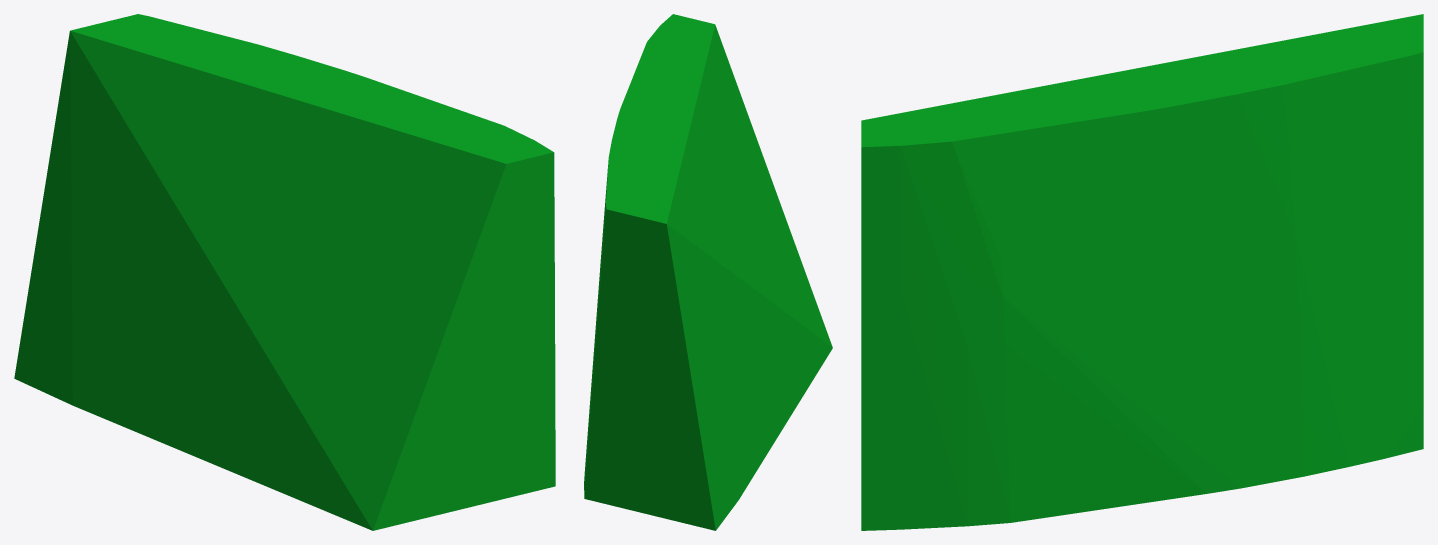
The model's file is left-shoulder-pitch-0_part_103.obj.
The picture shows the model from 3 angles, left to right: view 1: azimuth 30°, elevation 25°; view 2: azimuth 150°, elevation 25°; view 3: azimuth 270°, elevation 25°; orthographic projection. The views are drawn at different scales.
Size of the model in its own units: 0.0131 by 0.0142 by 0.0189.
